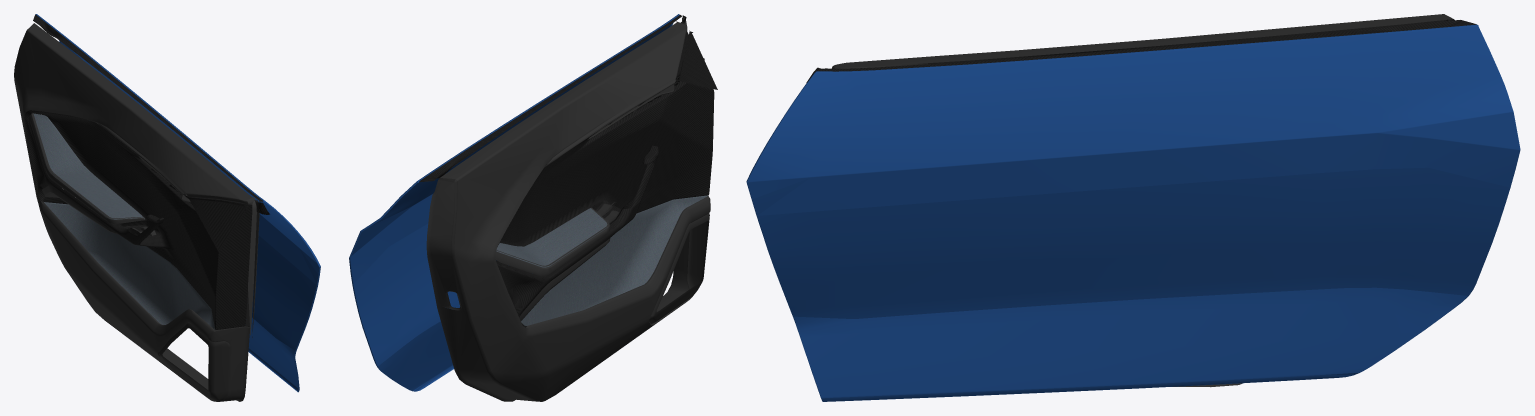
The model's file is Door_lf.glb.
The picture shows the model from 3 angles, left to right: view 1: azimuth 30°, elevation 25°; view 2: azimuth 150°, elevation 25°; view 3: azimuth 270°, elevation 25°; orthographic projection. The views are drawn at different scales.
Visible parts, largest first — view 1: body:Paint_Geo_lodABody_lodA_Lamborghini_IVRewardRecycled_21; view 2: body:Paint_Geo_lodABody_lodA_Lamborghini_IVRewardRecycled_21; view 3: body:Paint_Geo_lodABody_lodA_Lamborghini_IVRewardRecycled_21.
Part boxes in pixels (x1=…): body:Paint_Geo_lodABody_lodA_Lamborghini_IVRewardRecycled_21: x1=14, y1=14, x2=320, y2=401; body:Paint_Geo_lodABody_lodA_Lamborghini_IVRewardRecycled_21: x1=349, y1=14, x2=717, y2=401; body:Paint_Geo_lodABody_lodA_Lamborghini_IVRewardRecycled_21: x1=746, y1=14, x2=1520, y2=401.
Bounding box in the file's own units: 0.00295 × 0.0074 × 0.0144.
Materials: 6 (5 with a texture image).
